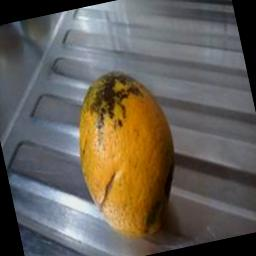Orange Overripe: (54, 52, 198, 256)
